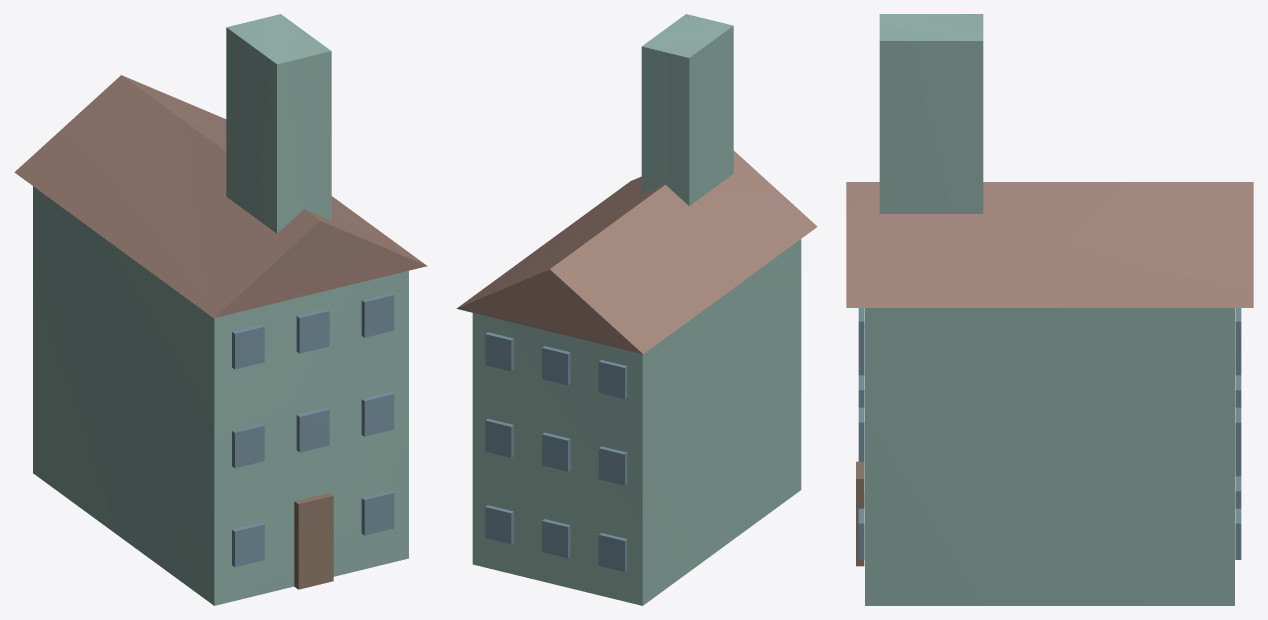
The model's file is church-00.glb.
3 views of the same model, side by side, from view 1: azimuth 30°, elevation 25°; view 2: azimuth 150°, elevation 25°; view 3: azimuth 270°, elevation 25° (orthographic). The views are drawn at different scales.
Parts seen in each view (by area): view 1: world; view 2: world; view 3: world.
Part boxes in pixels (<box>): world: <box>14,14,427,605</box>; world: <box>456,14,817,605</box>; world: <box>846,14,1253,605</box>.
Bounding box in the file's own units: 1.05 × 2.43 × 1.69.
